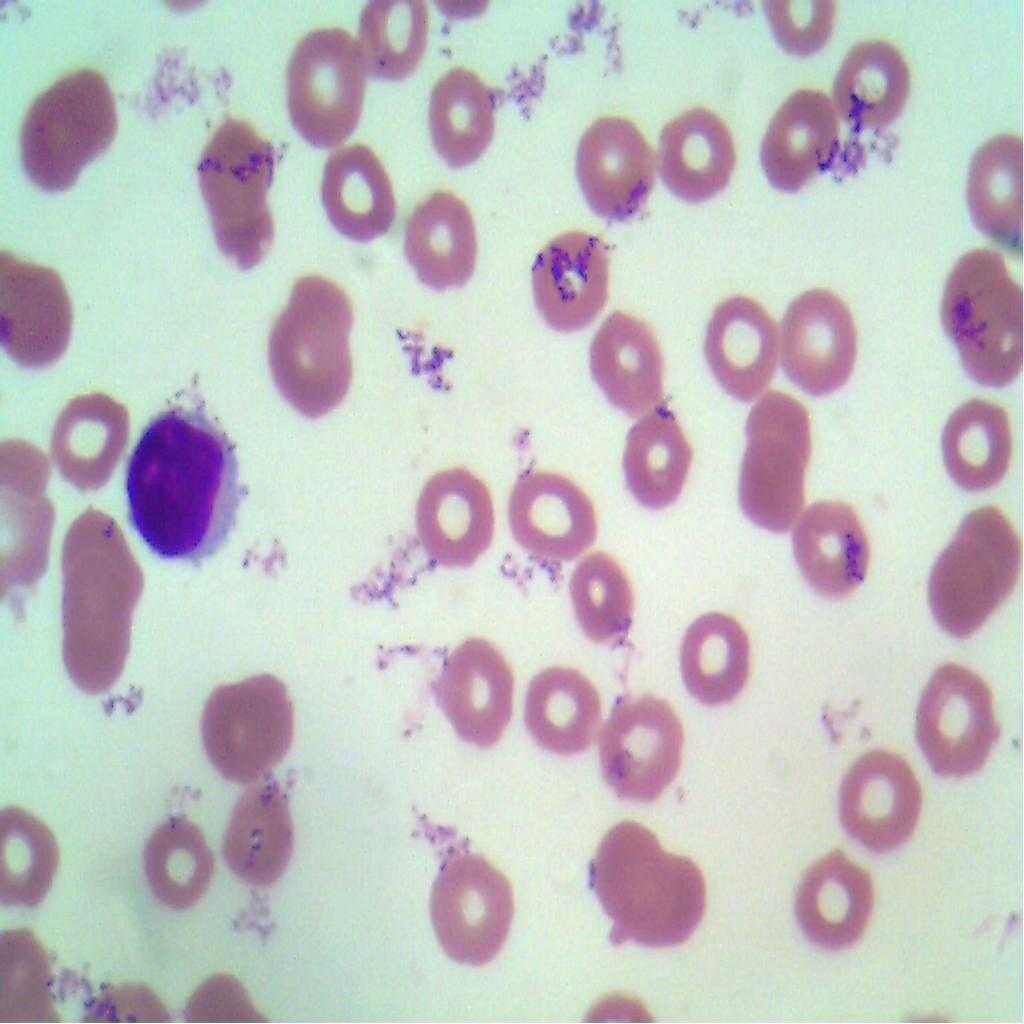Eritrosit: (508, 208, 614, 354), (193, 645, 303, 782), (421, 839, 526, 978), (264, 290, 358, 435), (283, 10, 375, 154), (601, 672, 691, 815), (910, 660, 1008, 788), (406, 451, 498, 584), (504, 458, 610, 572), (838, 730, 920, 858), (518, 649, 606, 768), (46, 378, 131, 501), (694, 278, 783, 392), (678, 602, 763, 721), (935, 388, 1023, 502), (576, 108, 666, 218), (436, 624, 513, 752), (576, 305, 663, 418), (424, 59, 508, 175), (563, 545, 653, 652), (663, 97, 742, 218), (836, 44, 930, 144), (792, 835, 878, 944), (791, 501, 881, 605), (754, 81, 836, 194), (398, 192, 479, 305), (775, 284, 858, 394), (0, 258, 78, 372), (58, 586, 132, 704), (629, 845, 711, 951), (579, 808, 661, 908), (324, 144, 402, 249), (56, 515, 143, 608), (733, 437, 813, 538), (211, 175, 289, 278), (16, 79, 86, 188), (56, 58, 122, 172), (228, 785, 296, 895), (0, 794, 62, 914), (932, 248, 1006, 344), (144, 807, 211, 911), (614, 412, 688, 503), (959, 497, 1023, 598), (351, 0, 435, 75), (742, 387, 814, 472), (961, 290, 1023, 388), (930, 539, 988, 642), (969, 130, 1023, 239), (0, 479, 55, 586), (194, 122, 263, 195)
Limfoblast: (126, 388, 251, 566)
